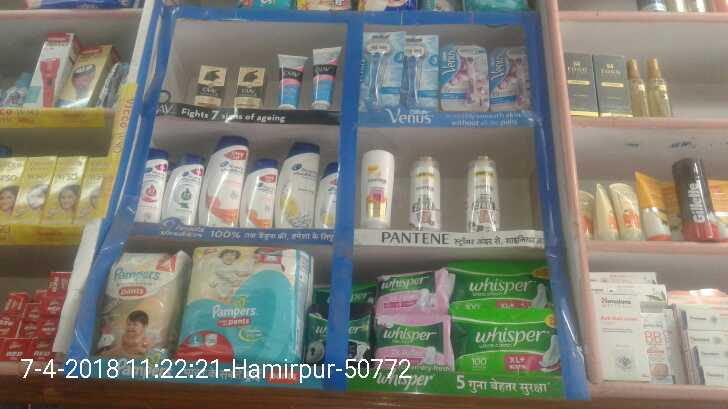gillete: (675, 160, 718, 238)
venus: (442, 46, 490, 111), (363, 34, 402, 103), (490, 45, 527, 111), (405, 34, 438, 105)
